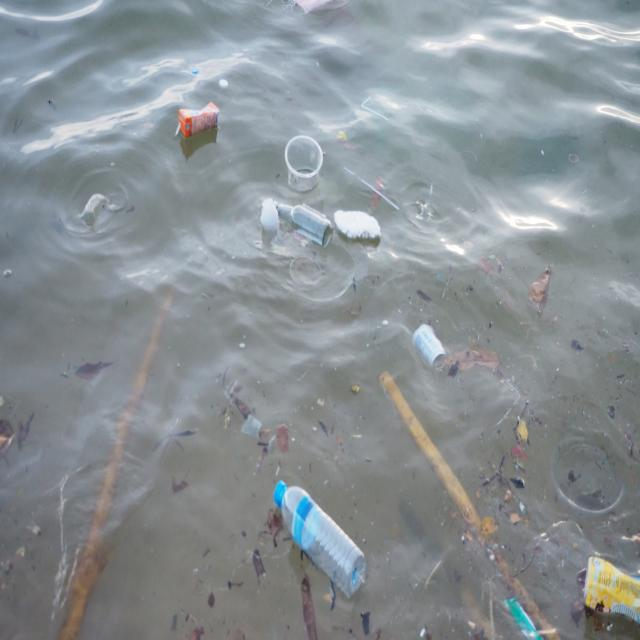foam: (336, 208, 381, 244)
plastic: (270, 478, 368, 599), (576, 557, 640, 632), (275, 192, 332, 246)
plastic bottle: (546, 428, 626, 518), (407, 311, 452, 373), (284, 129, 324, 197), (256, 198, 283, 239)
unknow: (375, 370, 488, 527), (173, 96, 223, 146)
